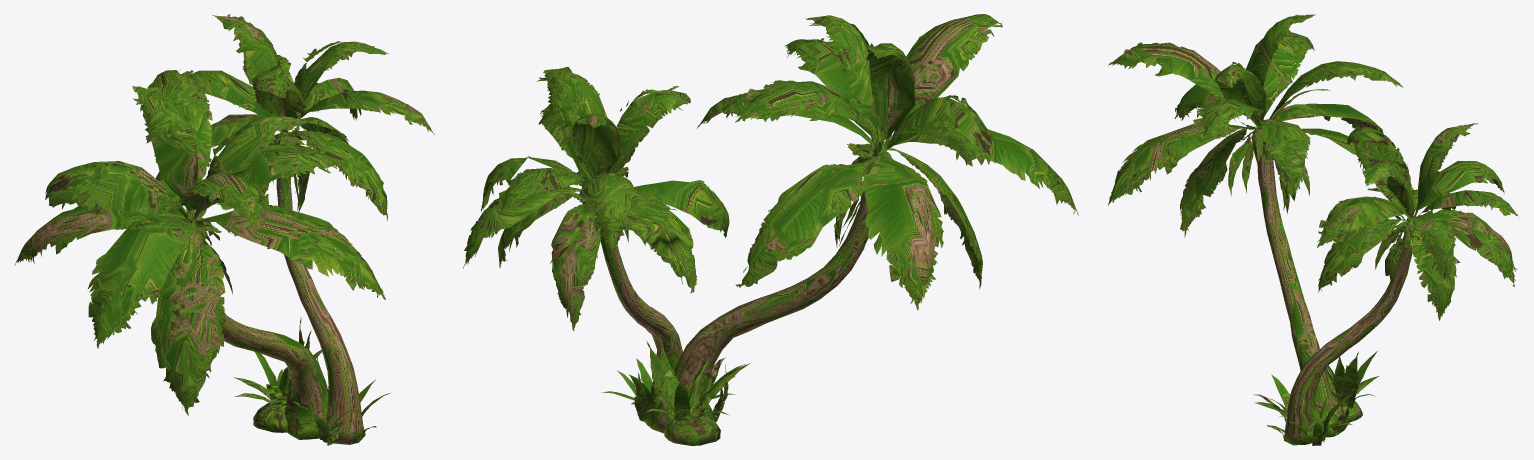
File: palm_low.glb
3 views of the same model, side by side, from view 1: azimuth 30°, elevation 25°; view 2: azimuth 150°, elevation 25°; view 3: azimuth 270°, elevation 25° (orthographic). The views are drawn at different scales.
Bounding box in the file's own units: 1 × 0.91 × 1.
1 material, 1 textured.
